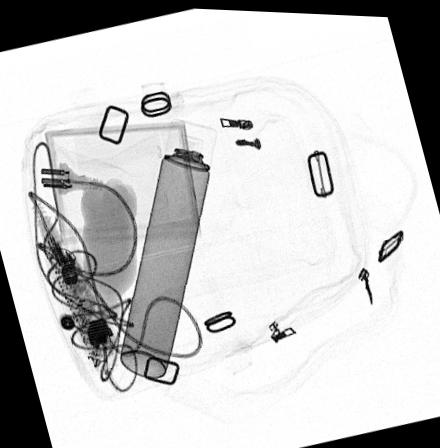Sprayer: (118, 115, 216, 377)
